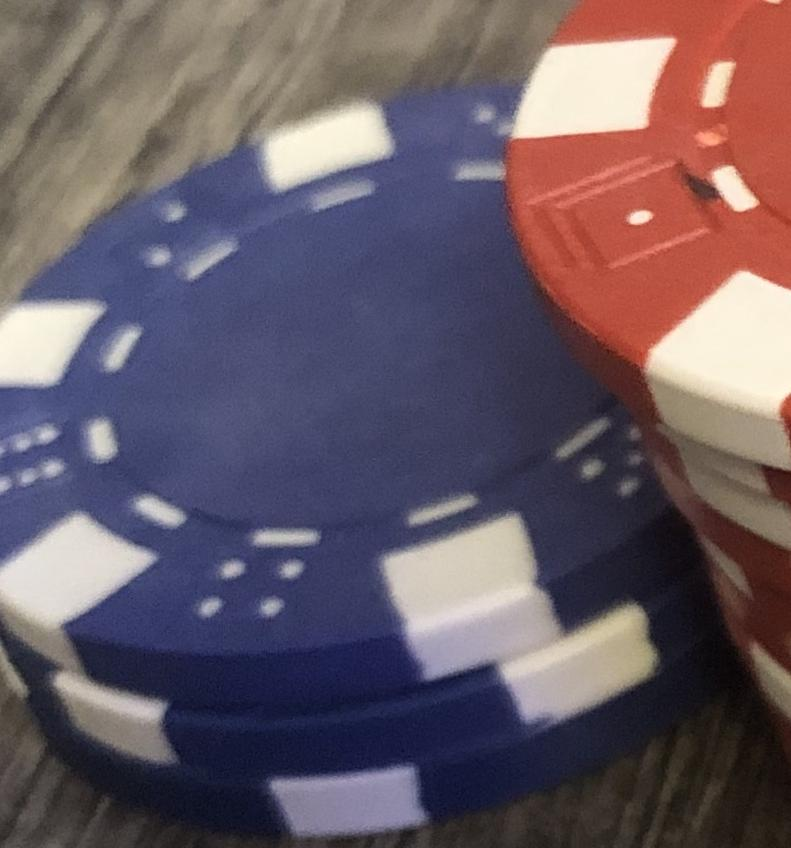Chip: (1, 1, 791, 848)
